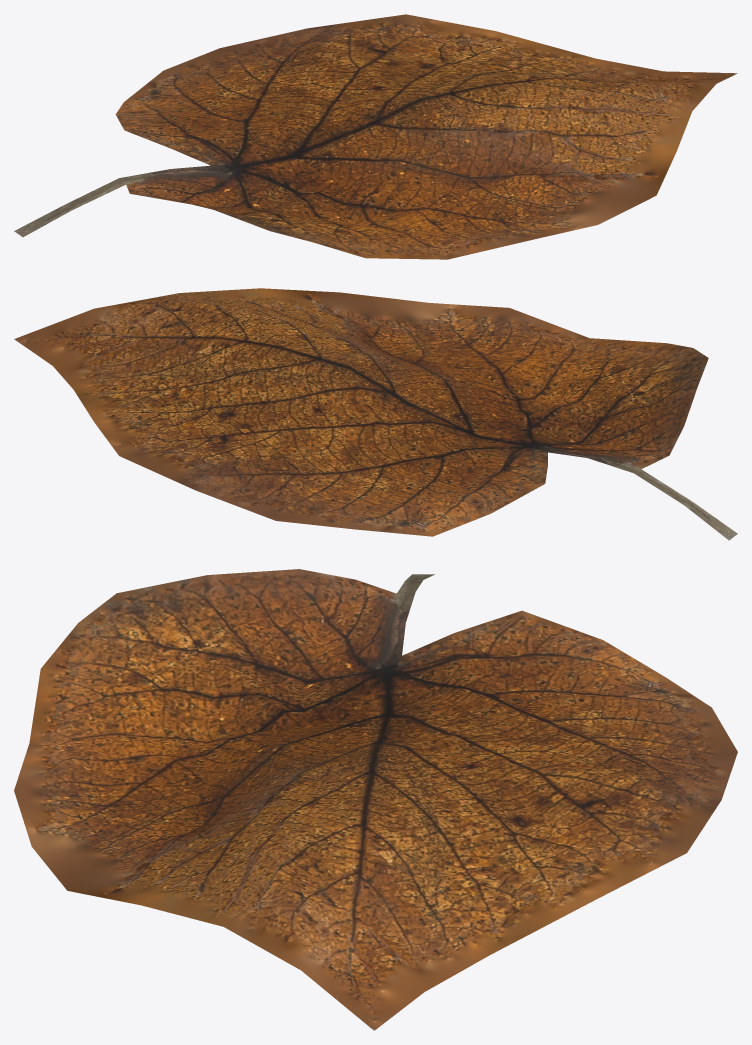
File: leaf_light.gltf
The picture shows the model from 3 angles, top to bottom: view 1: azimuth 30°, elevation 25°; view 2: azimuth 150°, elevation 25°; view 3: azimuth 270°, elevation 25°; orthographic projection. The views are drawn at different scales.
Parts seen in each view (by area): view 1: SM_Leaf_21_SM_Leaf_21_Leaf_21_Uvme.000; view 2: SM_Leaf_21_SM_Leaf_21_Leaf_21_Uvme.000; view 3: SM_Leaf_21_SM_Leaf_21_Leaf_21_Uvme.000.
Part boxes in pixels (<box>): SM_Leaf_21_SM_Leaf_21_Leaf_21_Uvme.000: <box>14,14,737,259</box>; SM_Leaf_21_SM_Leaf_21_Leaf_21_Uvme.000: <box>14,288,737,540</box>; SM_Leaf_21_SM_Leaf_21_Leaf_21_Uvme.000: <box>14,569,737,1030</box>.
Bounding box in the file's own units: 0.1041 × 0.00786 × 0.069.
Materials: 1 (1 with a texture image).
